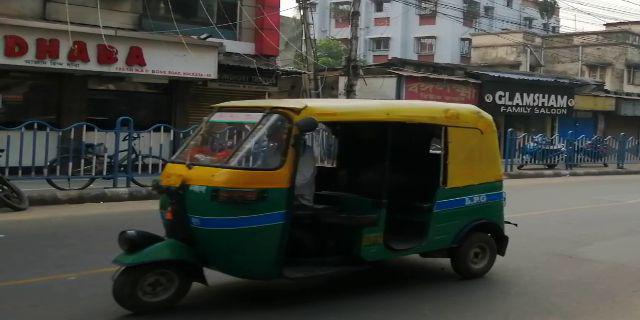Autorickshaw: (110, 97, 512, 306)
